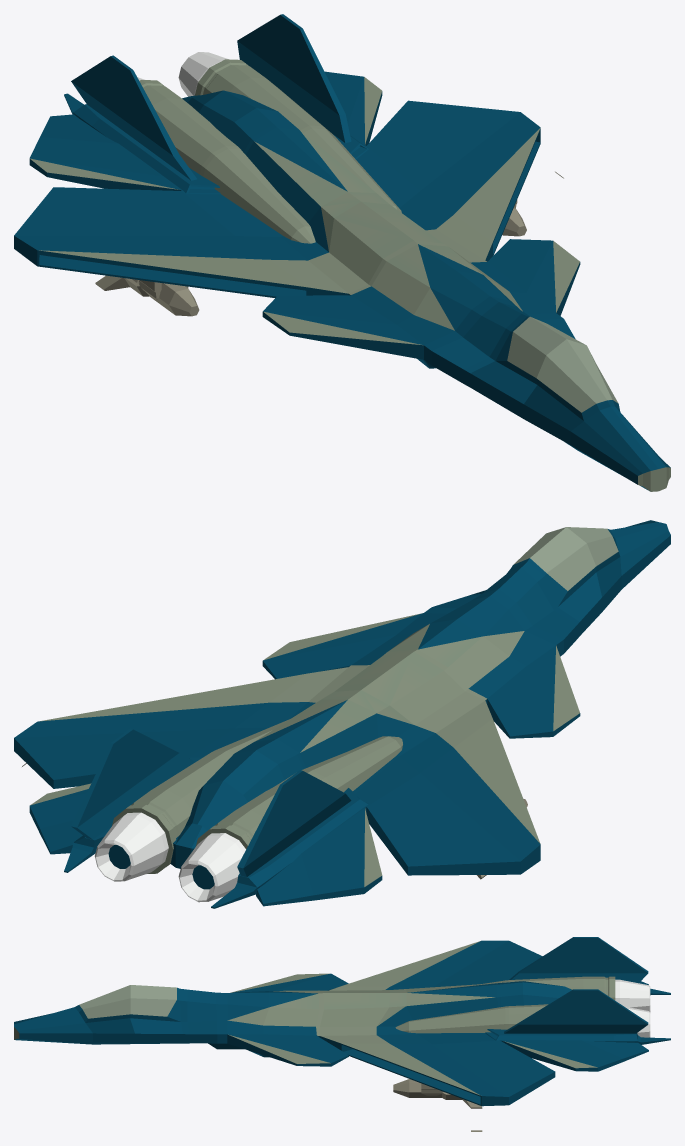
The model's file is Blackout.fbx.
The picture shows the model from 3 angles, top to bottom: view 1: azimuth 30°, elevation 25°; view 2: azimuth 150°, elevation 25°; view 3: azimuth 270°, elevation 25°; orthographic projection. The views are drawn at different scales.
Visible parts, largest first — view 1: Blackout; view 2: Blackout; view 3: Blackout.
Boxes of the visible parts, bbox=[...] form: Blackout: bbox=[14, 14, 670, 491]; Blackout: bbox=[14, 520, 670, 908]; Blackout: bbox=[14, 937, 670, 1131].
Size of the model in its own units: 711 by 177 by 1230.
Materials: 1 (1 with a texture image).
